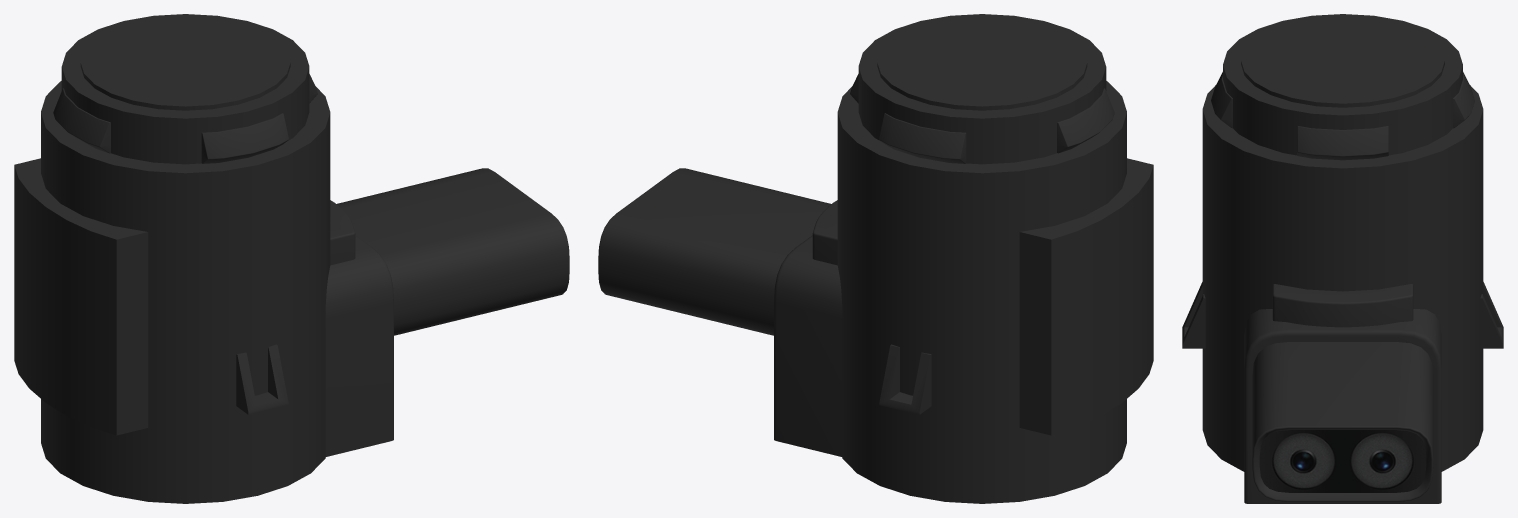
Rendered from Ultrasonic-Radar.FBX.
3 views of the same model, side by side, from view 1: azimuth 30°, elevation 25°; view 2: azimuth 150°, elevation 25°; view 3: azimuth 270°, elevation 25° (orthographic). The views are drawn at different scales.
Parts seen in each view (by area): view 1: 超声波雷达; view 2: 超声波雷达; view 3: 超声波雷达.
Boxes of the visible parts, left/top/right/bottom form: 超声波雷达: left=14, top=14, right=569, bottom=503; 超声波雷达: left=598, top=14, right=1153, bottom=503; 超声波雷达: left=1182, top=14, right=1503, bottom=503.
Bounding box in the file's own units: 0.1446 × 0.1101 × 0.0869.
Materials: 2 (1 with a texture image).
